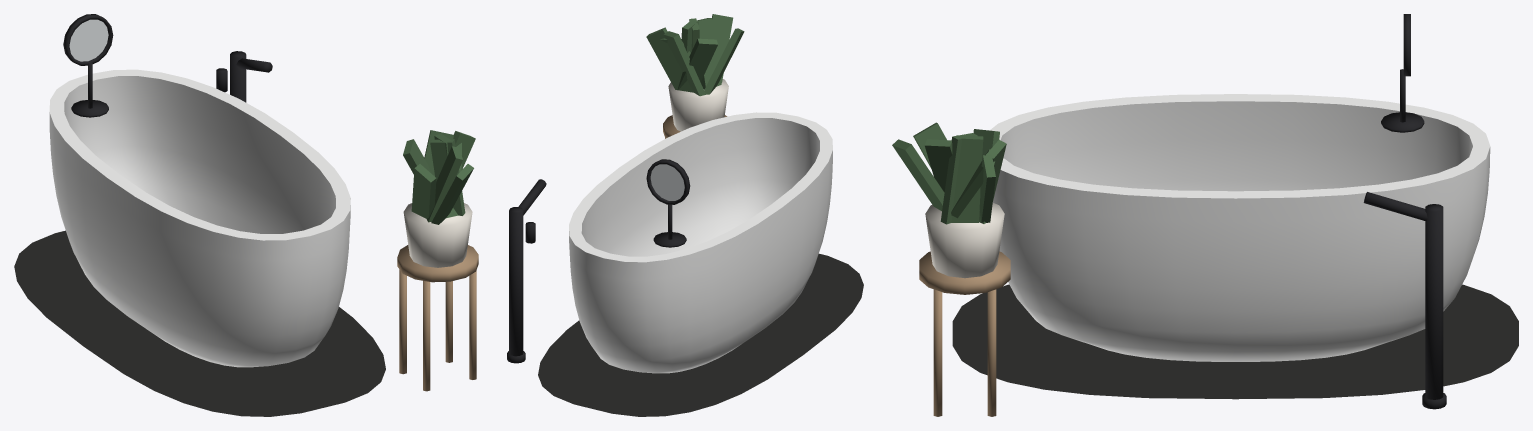
The model's file is master_bath_tub.glb.
The picture shows the model from 3 angles, left to right: view 1: azimuth 30°, elevation 25°; view 2: azimuth 150°, elevation 25°; view 3: azimuth 270°, elevation 25°; orthographic projection. The views are drawn at different scales.
Parts seen in each view (by area): view 1: root; view 2: root; view 3: root.
Part boxes in pixels (x1,y1,x2,y2): root: (14, 14, 478, 416); root: (507, 14, 863, 416); root: (892, 14, 1518, 416).
Size of what is drawn, in the model's own units: 1.28 by 1.1 by 2.12.
